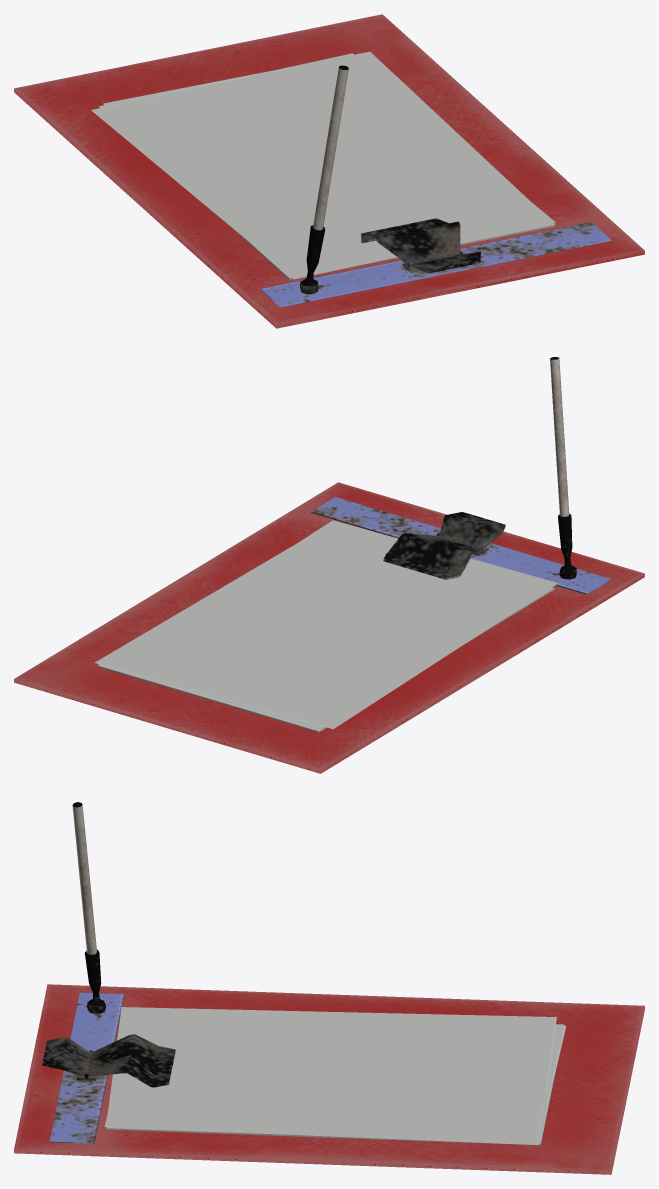
Rendered from waiter.gltf.
The picture shows the model from 3 angles, top to bottom: view 1: azimuth 30°, elevation 25°; view 2: azimuth 150°, elevation 25°; view 3: azimuth 270°, elevation 25°; orthographic projection. The views are drawn at different scales.
Parts seen in each view (by area): view 1: Bar5to2_030; view 2: Bar5to2_030; view 3: Bar5to2_030.
Part boxes in pixels (x1,y1,x2,y2): Bar5to2_030: [14, 14, 644, 328]; Bar5to2_030: [14, 357, 644, 773]; Bar5to2_030: [14, 802, 644, 1174].
Bounding box in the file's own units: 0.1761 × 0.0976 × 0.25.
1 material, 1 textured.
